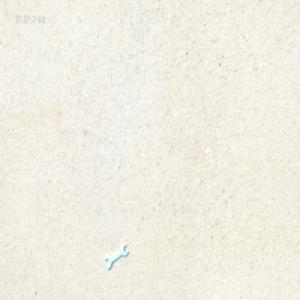Wrench: (105, 241, 128, 270)
